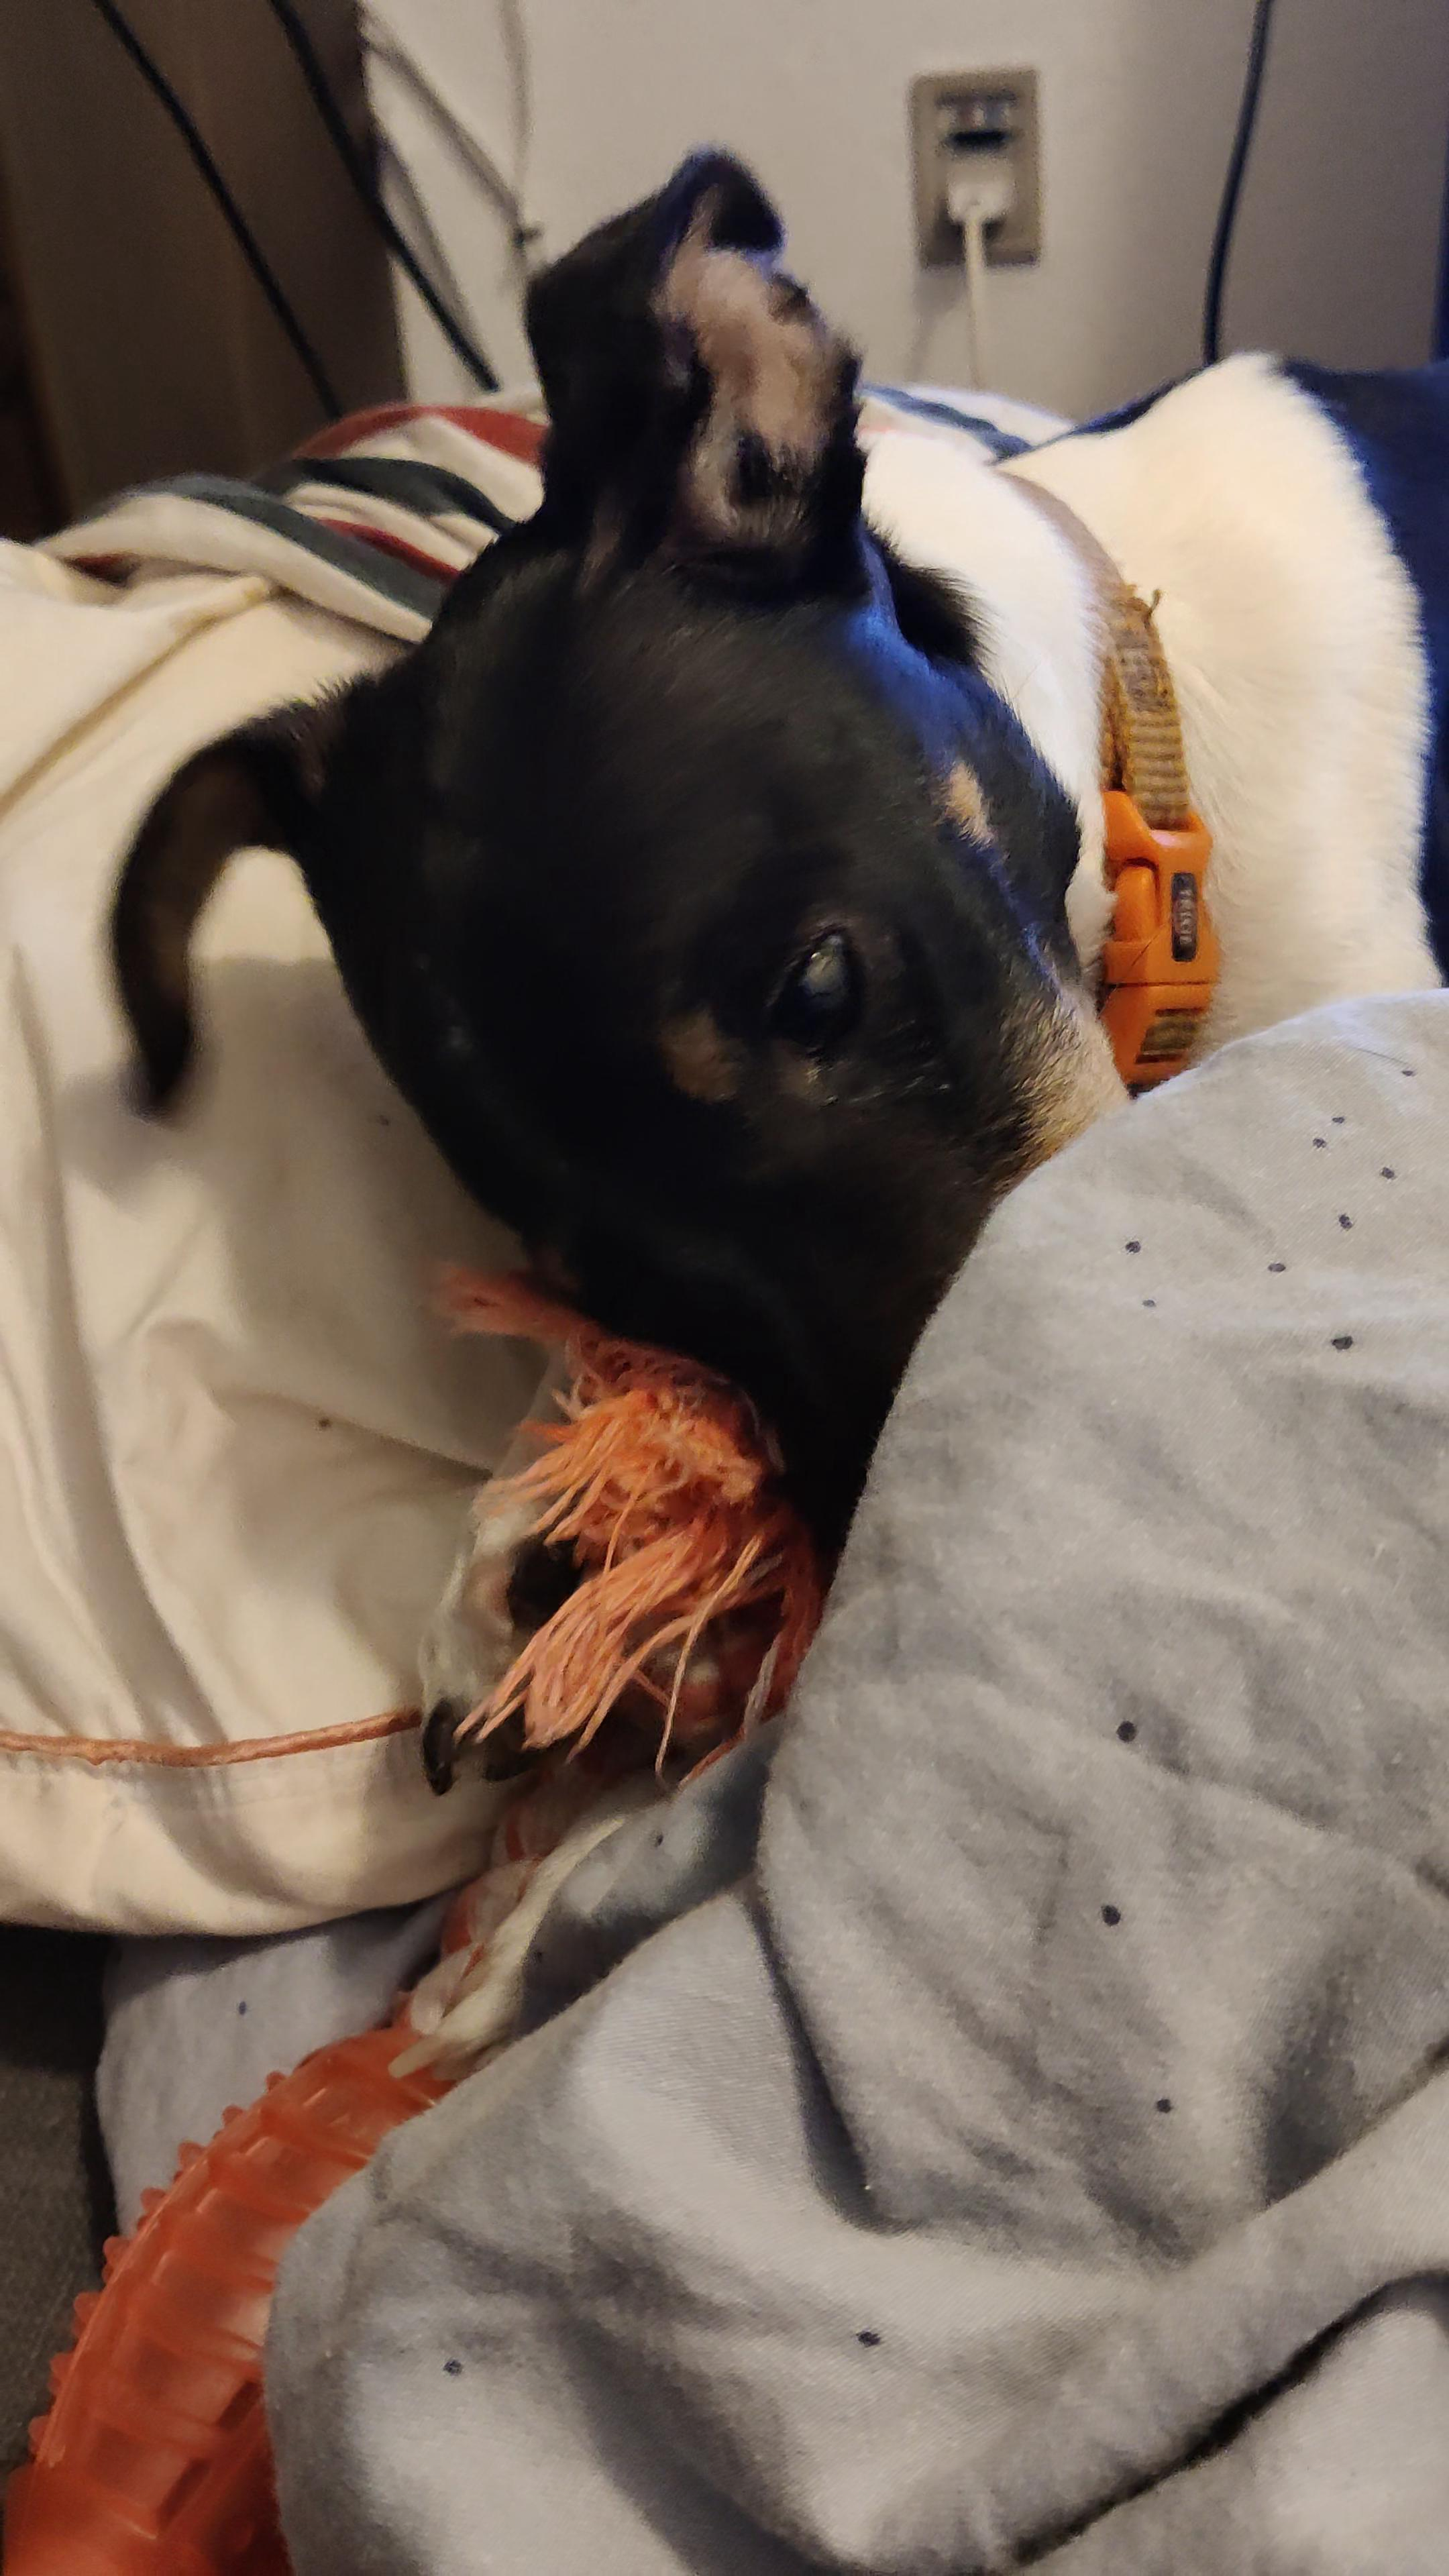Dog: (94, 138, 1449, 2091)
